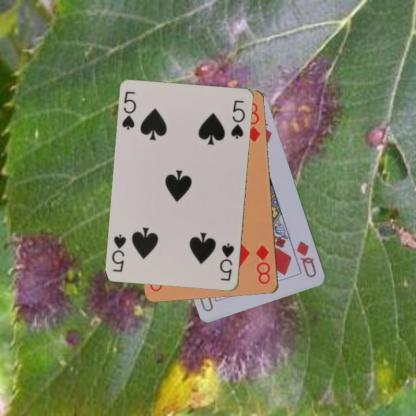5s: (217, 240, 236, 283), (120, 89, 138, 132)
8d: (254, 242, 272, 286)
Qd: (294, 238, 318, 279)
